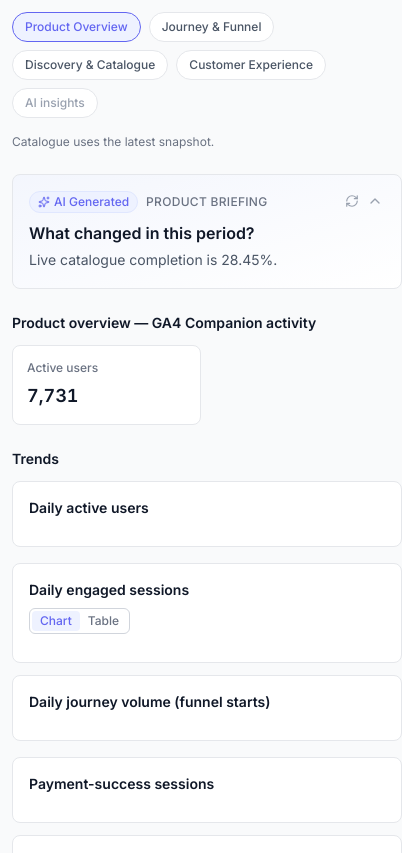
Companion Product Health live sections › does not substitute OVERALL or AJIO CE completion when SAP is unavailable
Click the button "Discovery & Catalogue" at (90, 65), box [12,50,168,80]
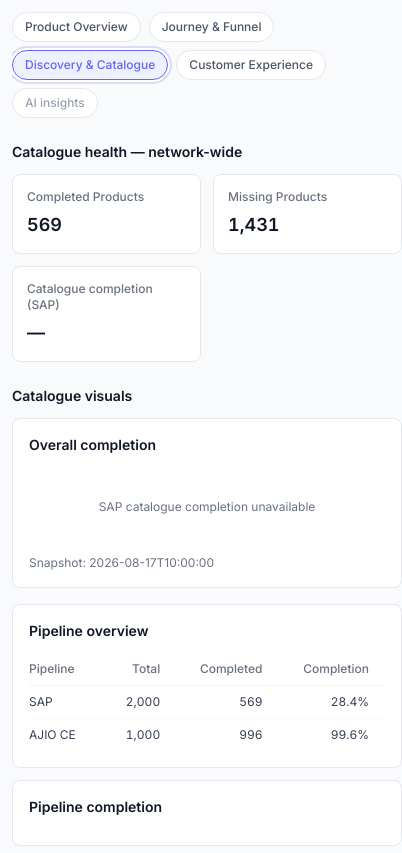
Check: the text "SAP catalogue completion unavailable" is shown, box [99,499,315,514]
Check: the text "28.45%" is gone
Check: the text "99.6%" is shown, box [278,718,385,751]
